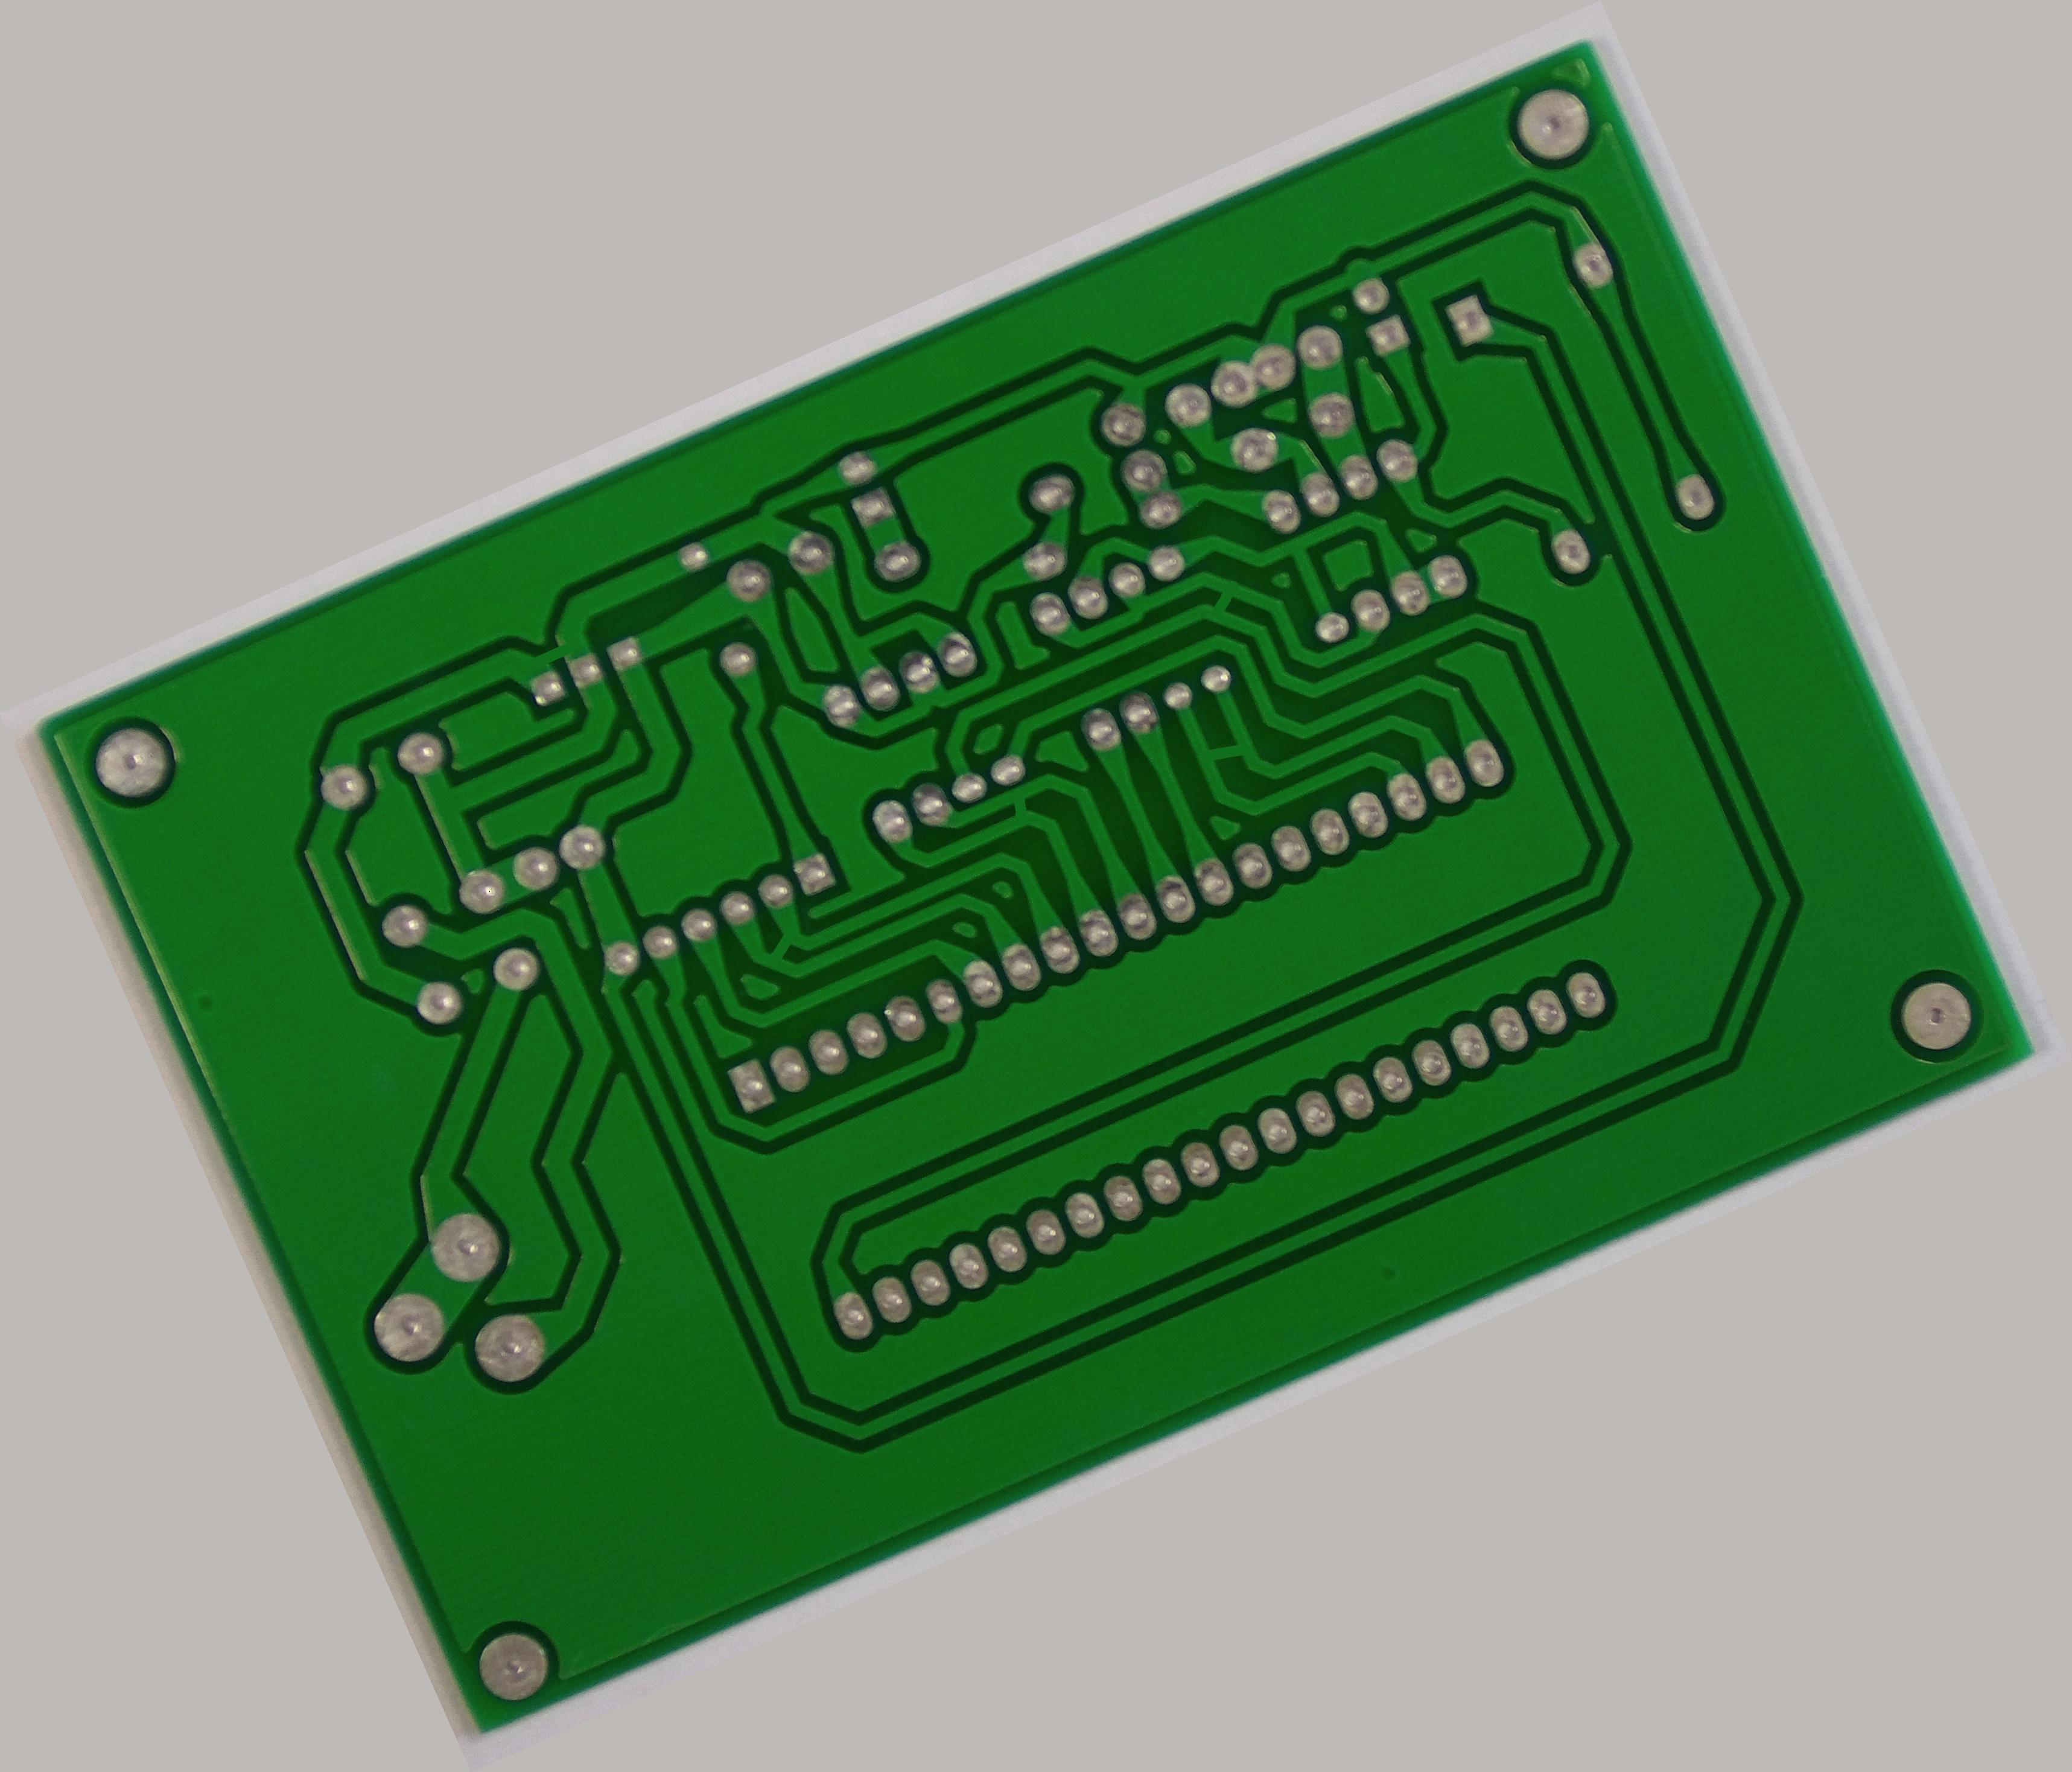short: (506, 614, 596, 696), (1185, 714, 1272, 796), (736, 909, 824, 990), (1183, 570, 1260, 638), (981, 775, 1053, 844)
